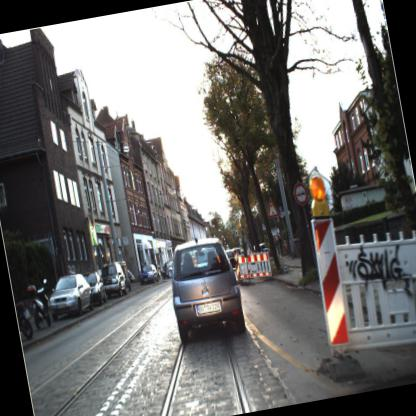danger: (264, 190, 282, 224)
prohibitory: (288, 178, 312, 210)
